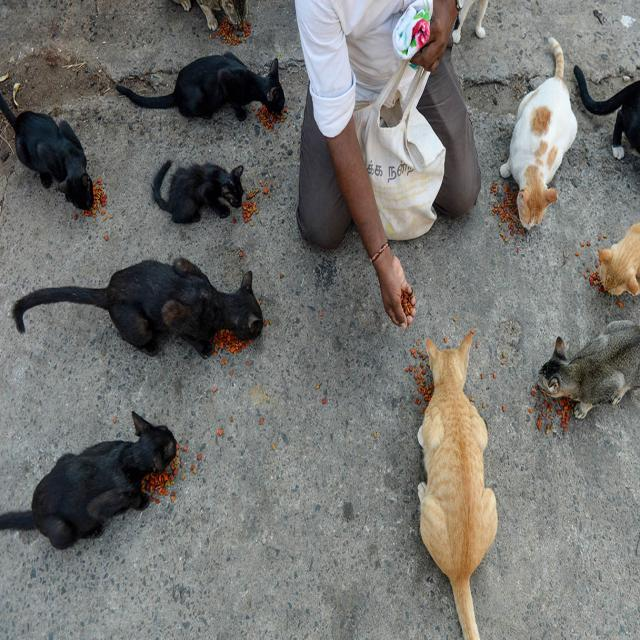cat: (12, 257, 262, 357), (418, 336, 498, 638), (0, 412, 176, 548), (500, 38, 578, 230), (116, 53, 285, 121), (0, 95, 94, 210), (538, 321, 640, 419), (574, 66, 640, 159), (151, 162, 244, 223), (599, 221, 639, 295)
